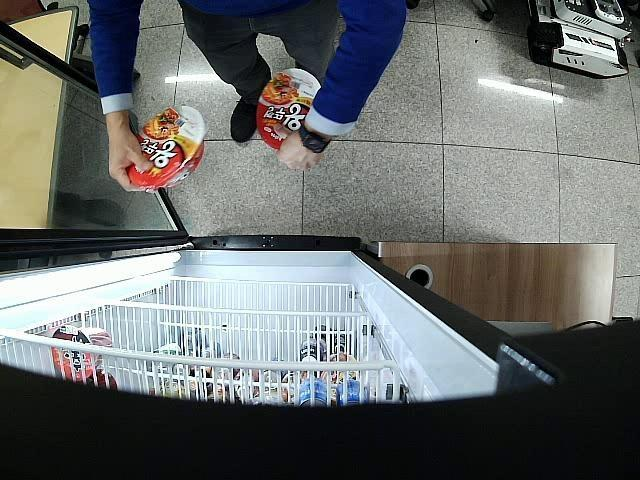10_wangTtukkeong: (127, 103, 208, 195), (256, 68, 322, 150)
